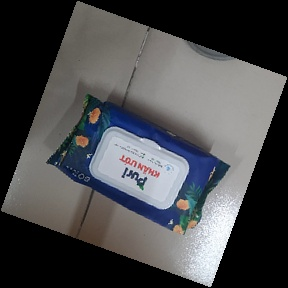Puri Xanh: (44, 92, 234, 235)
